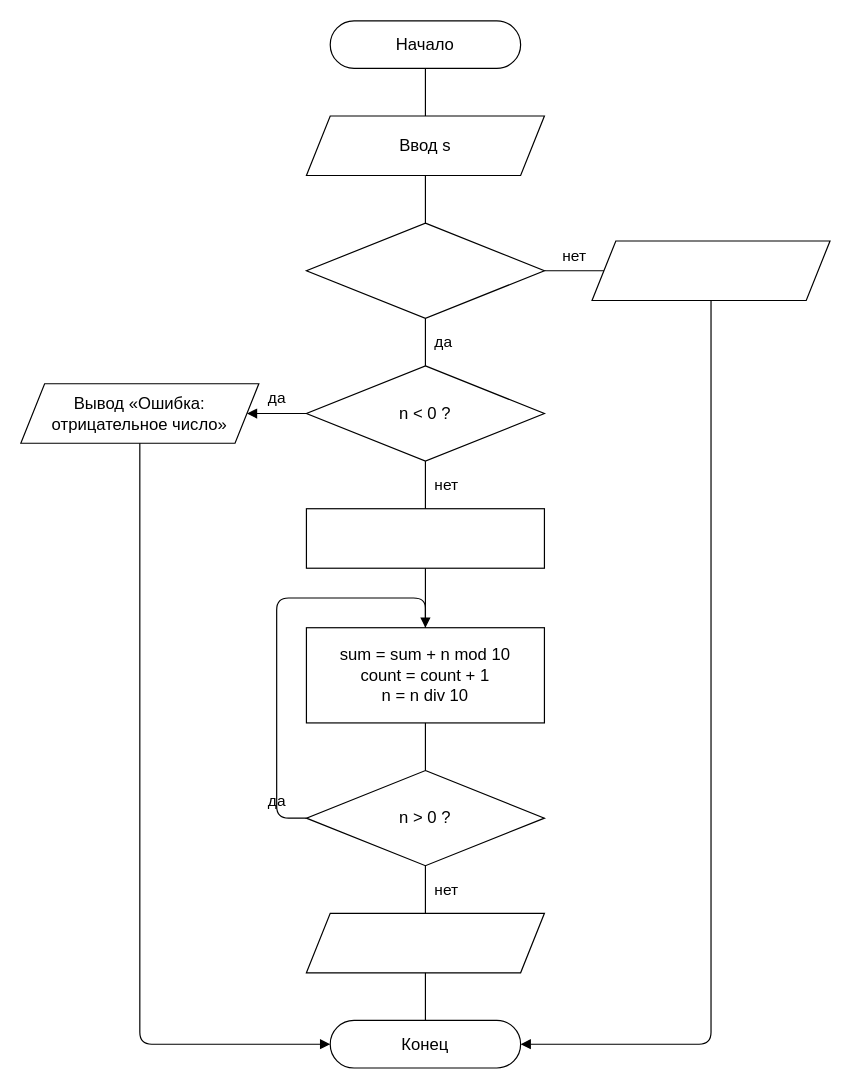
Some shapes in this 851 by 1089 pixel diagram are drawn without their labels. The centre of each missing label's shape, as x and y in pixels:
s — целое число n?: (x=424, y=270)
sum = 0 count = 0: (x=424, y=538)
Вывод count, sum: (x=424, y=942)
Вывод «Ошибка: не целое число»: (x=710, y=270)
